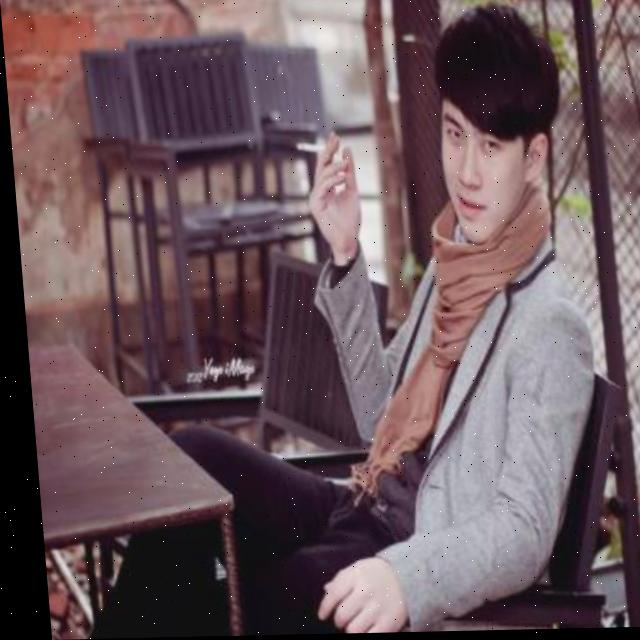cigarette: (292, 141, 320, 155)
